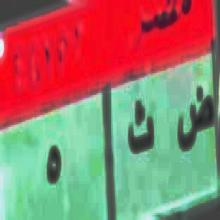5: (44, 139, 64, 199)
daad: (178, 78, 214, 166)
thaa: (127, 94, 154, 158)
